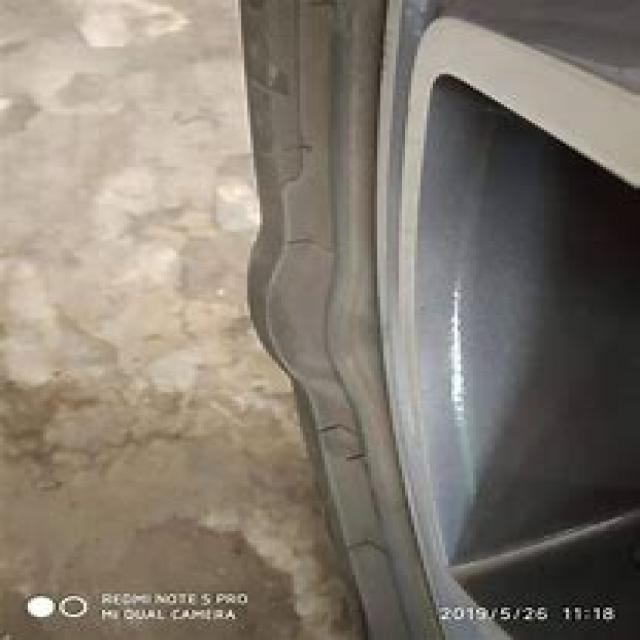Bulge: (233, 221, 359, 399)
